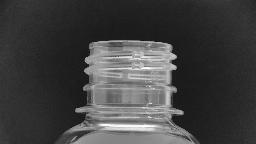No Cap: (70, 39, 188, 122)
